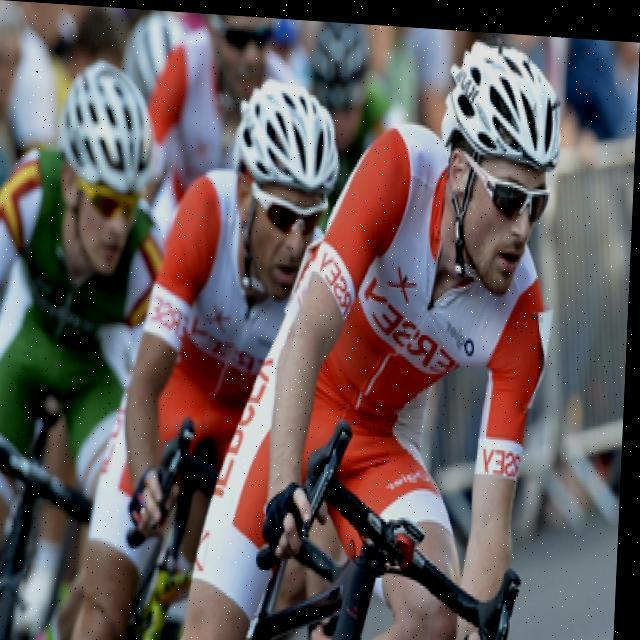Helmet: (436, 34, 572, 298), (225, 67, 342, 301), (59, 55, 153, 272)
